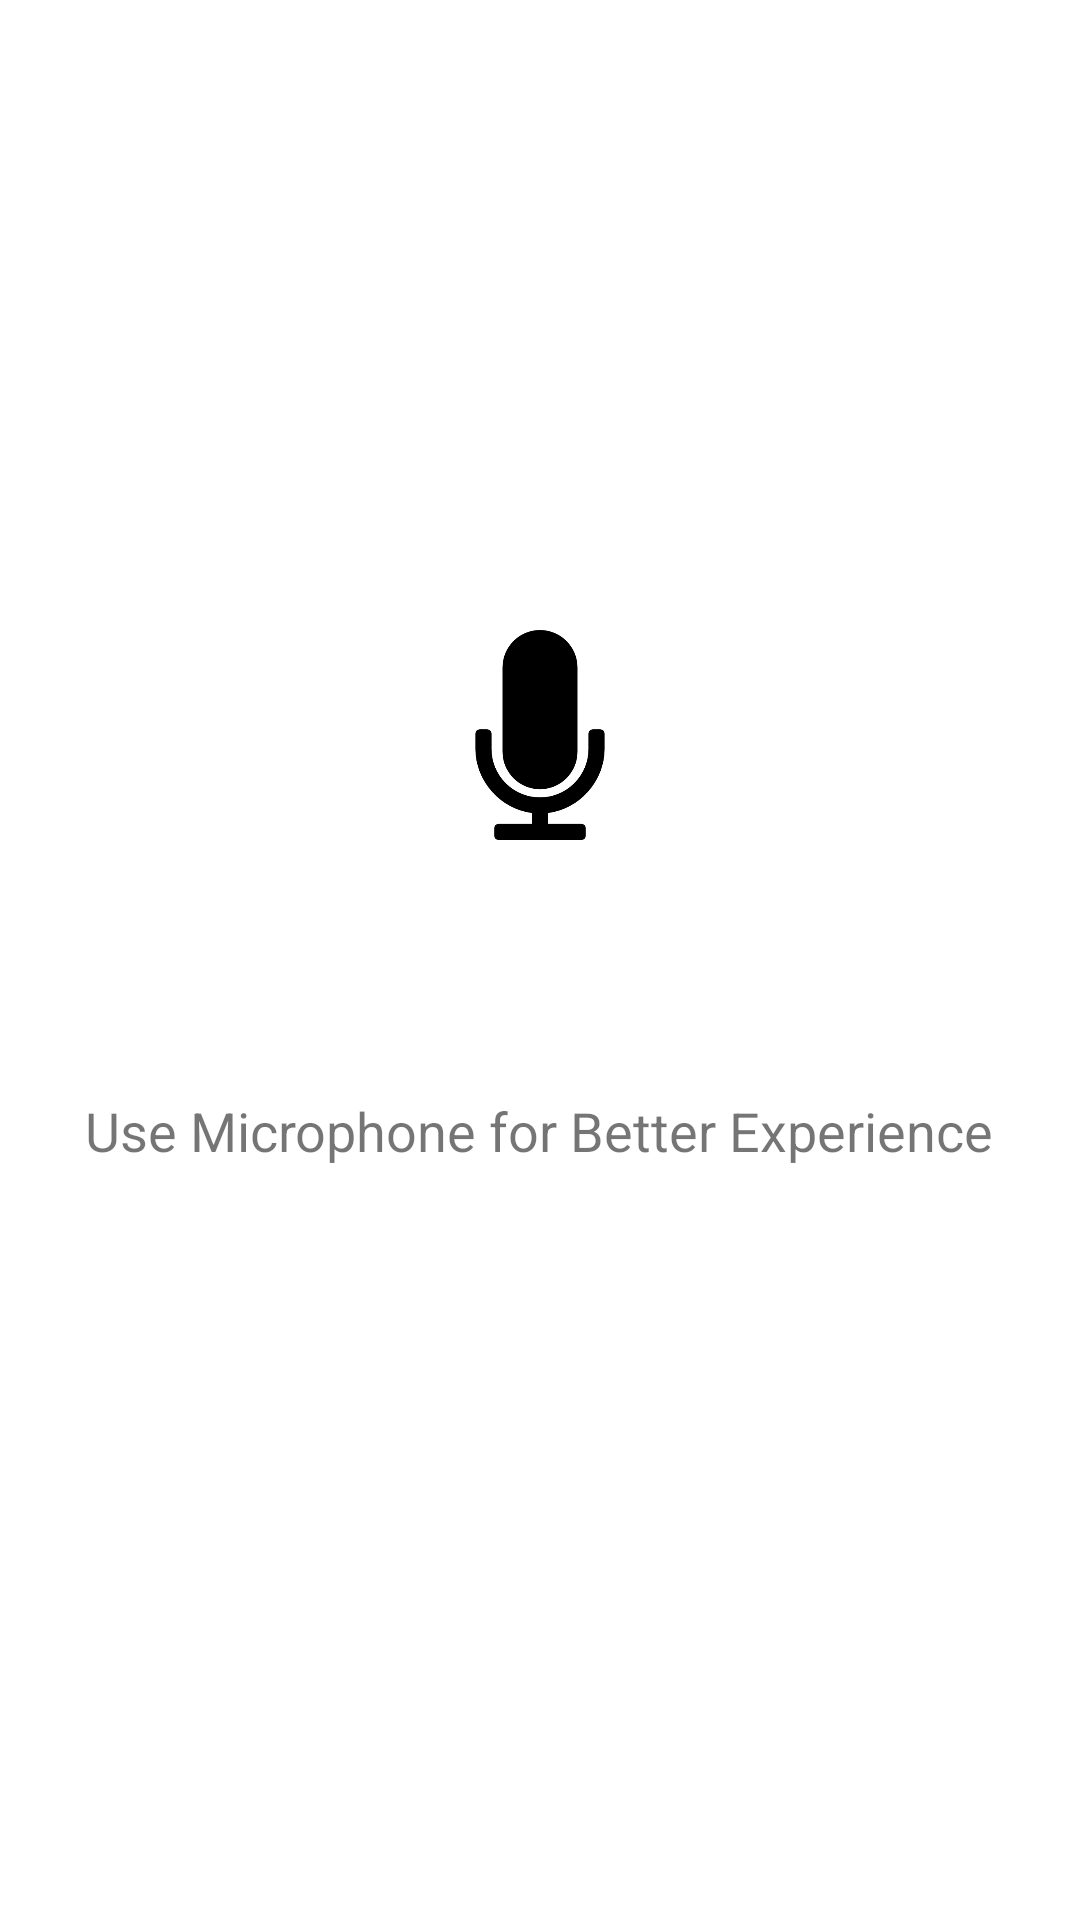

Named icons in this screenshot (1080px×1920px) and their centers, (x,y):
record: (540,735)
